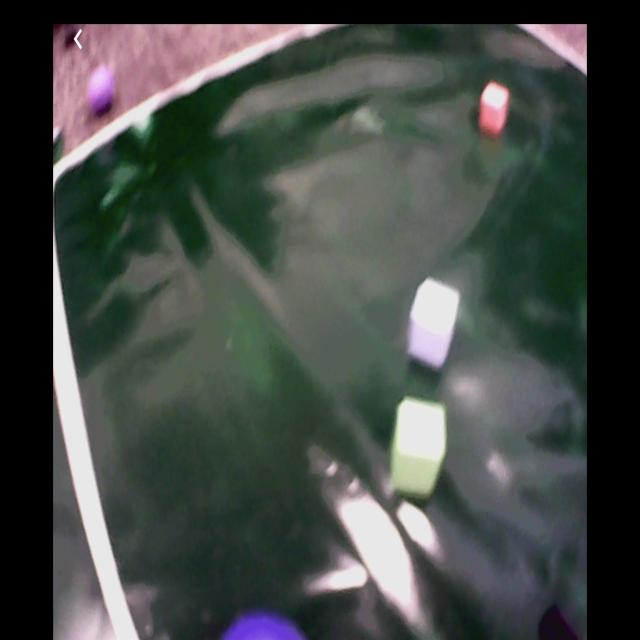ball: (219, 613, 303, 640), (87, 69, 116, 112)
